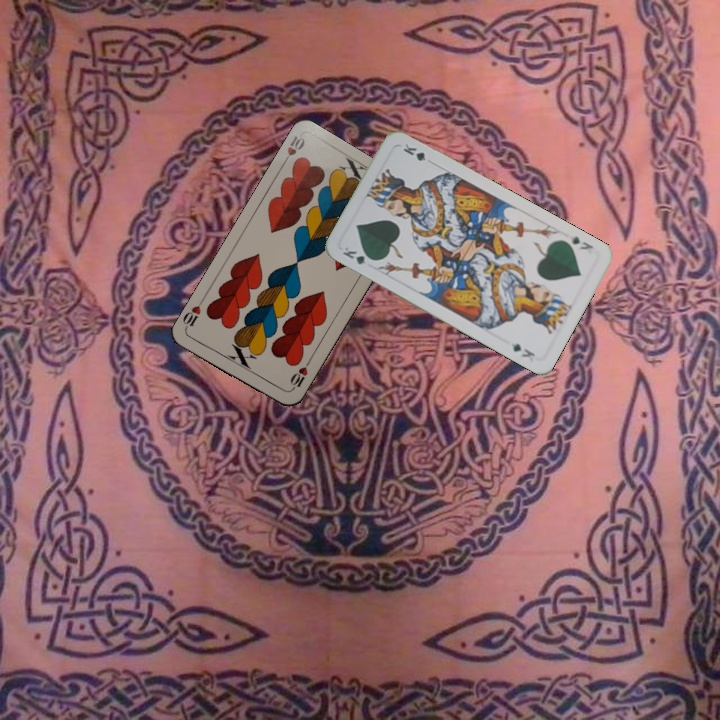GK: (338, 243, 378, 267), (565, 231, 596, 253)
H10: (278, 132, 307, 168), (286, 357, 313, 394)
